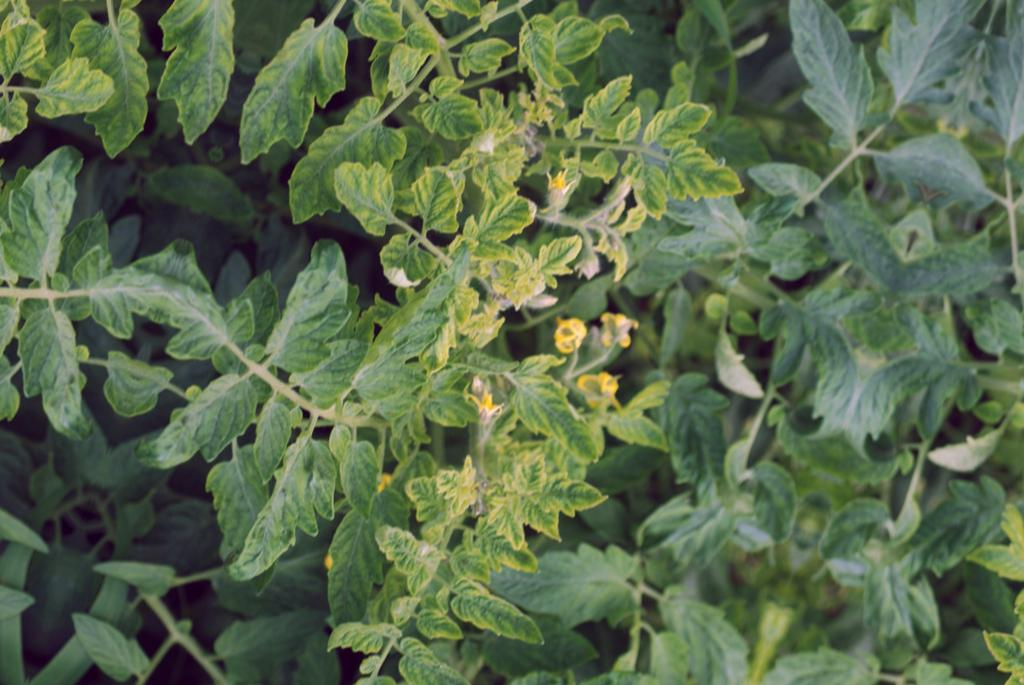Tomato leaf yellow virus: (272, 78, 424, 259), (219, 3, 357, 192), (331, 252, 471, 430), (255, 234, 368, 391), (134, 354, 258, 493), (489, 364, 620, 467), (643, 128, 753, 229), (438, 574, 560, 658), (383, 442, 488, 537), (397, 64, 498, 159), (311, 149, 405, 241), (448, 182, 540, 272), (625, 84, 714, 174), (318, 429, 396, 527), (394, 156, 476, 243), (520, 457, 615, 532), (496, 9, 577, 92), (322, 600, 402, 675), (368, 226, 441, 296), (358, 511, 433, 578), (571, 63, 635, 141), (447, 24, 518, 91), (412, 379, 484, 443), (338, 0, 411, 53), (532, 223, 588, 291), (288, 661, 408, 685), (546, 0, 715, 12), (419, 0, 492, 22)
